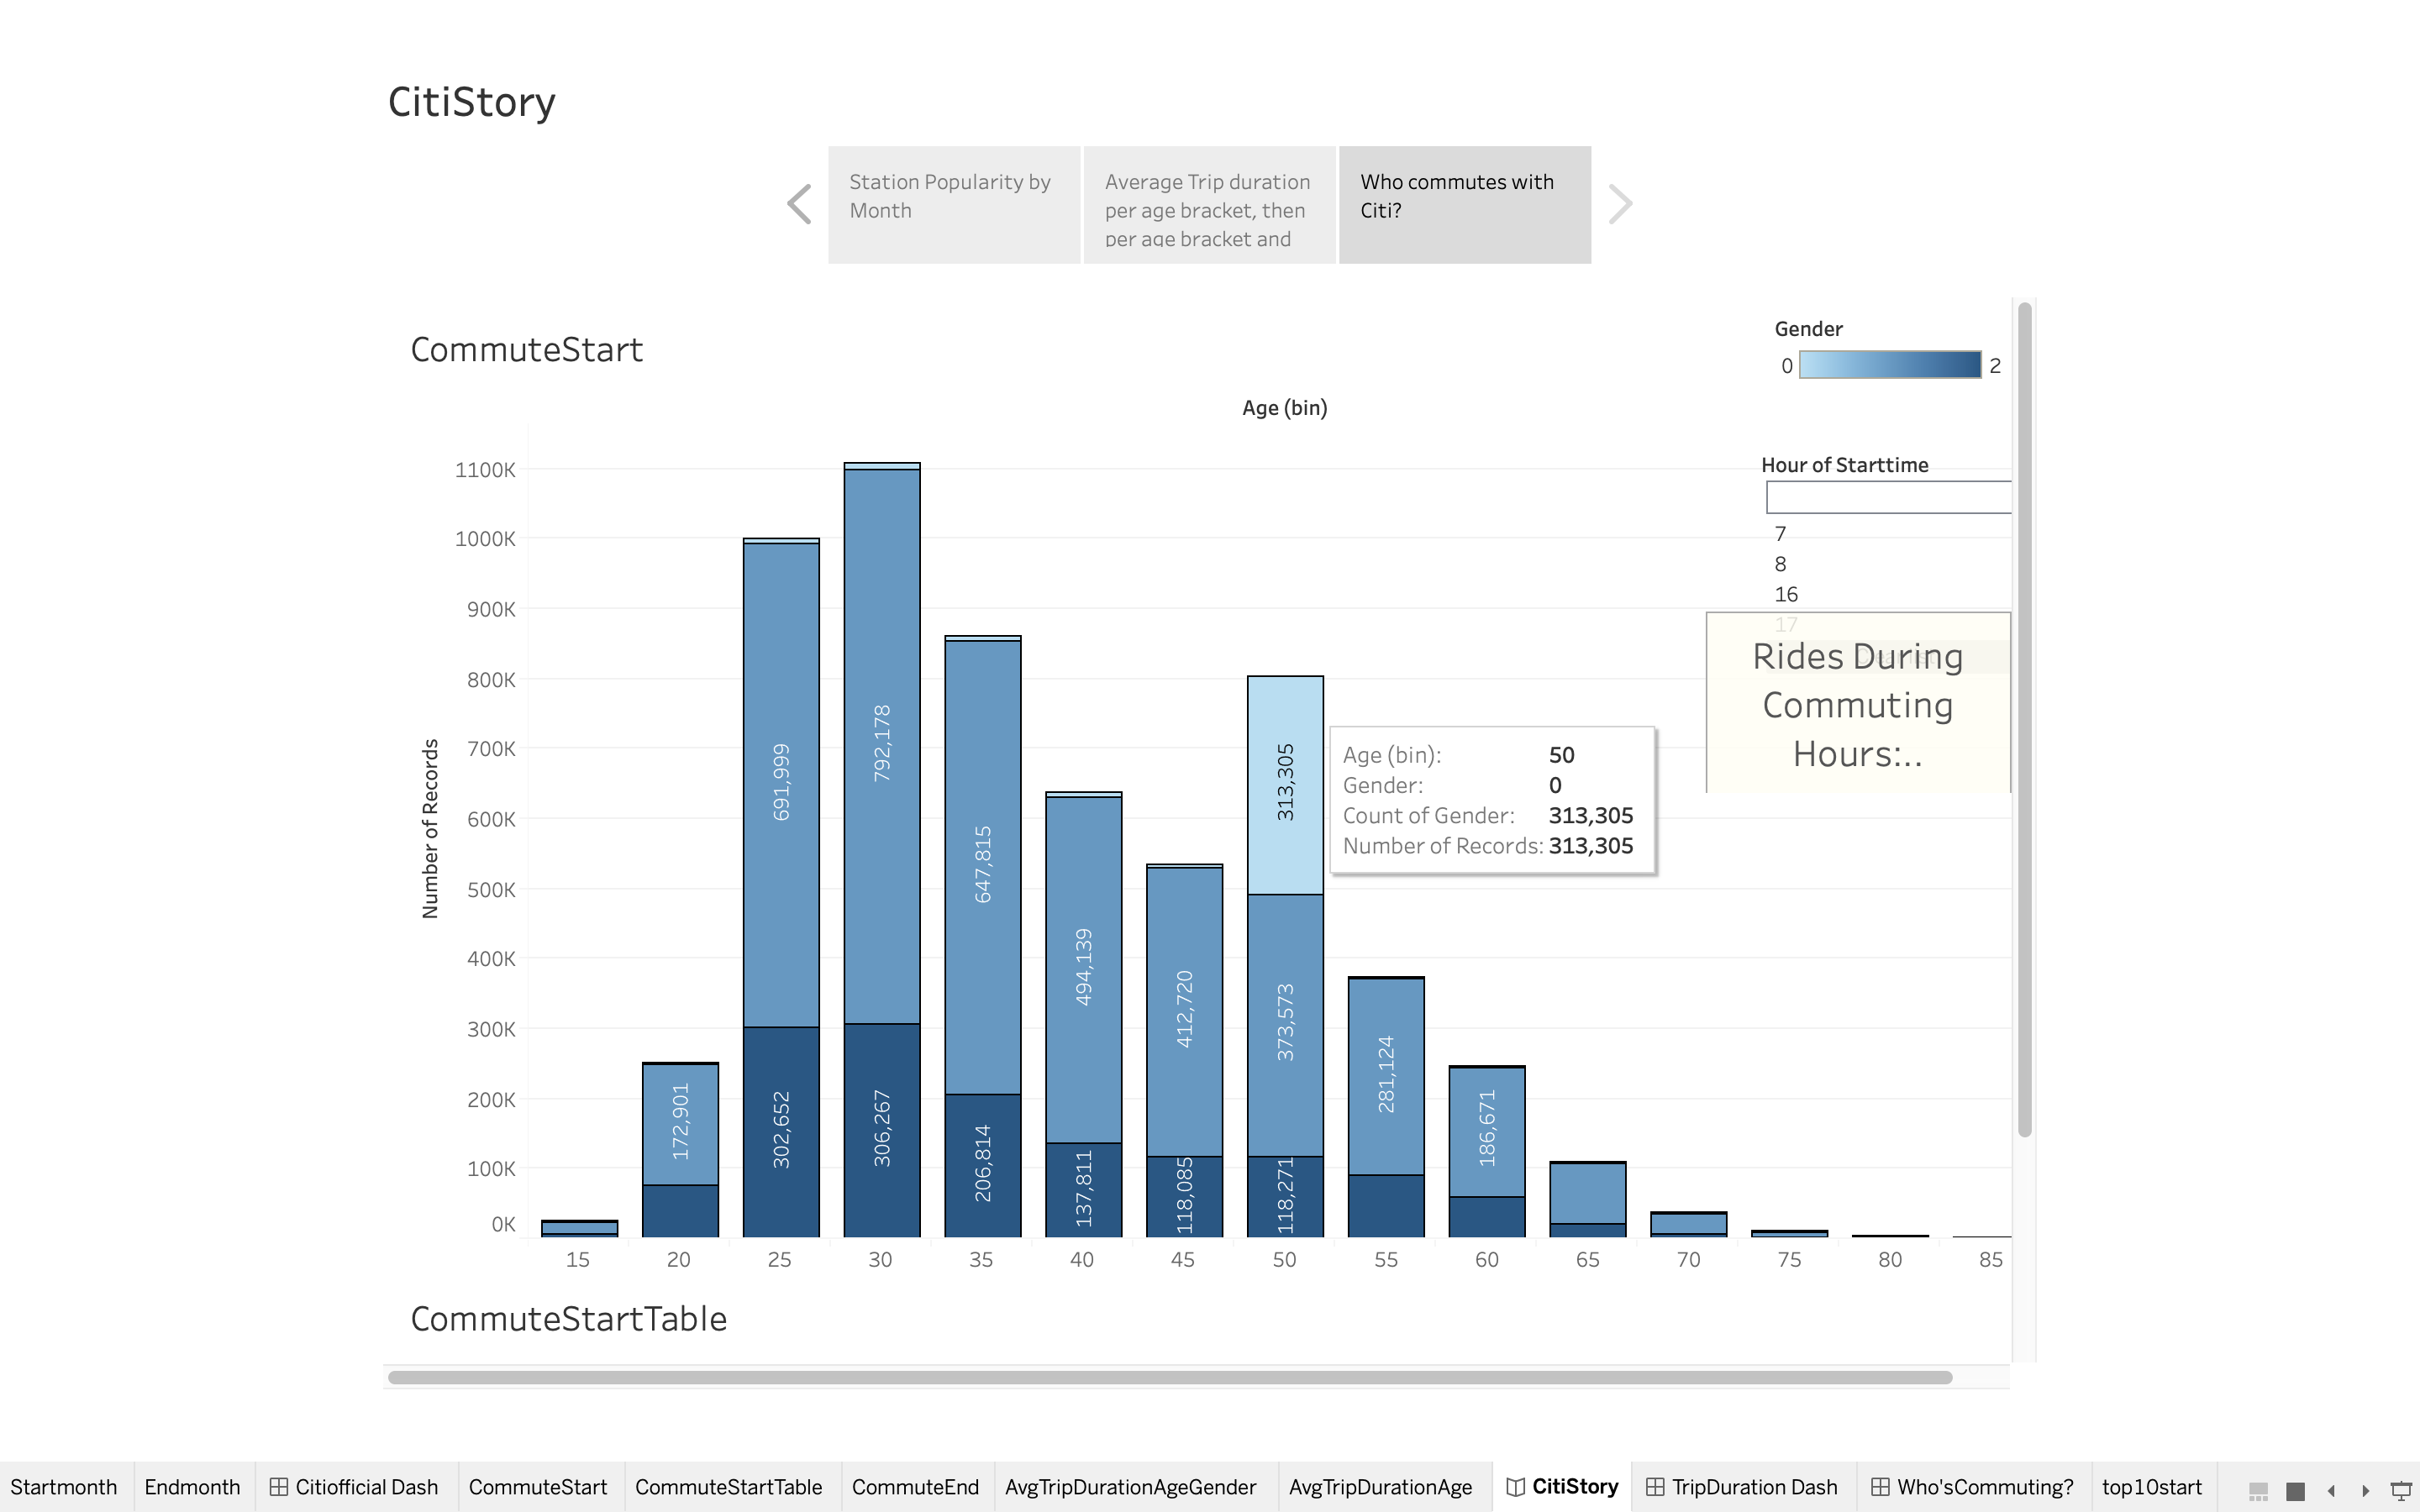

The dashboard page shown, as its layout file describes it:
{"tool":"tableau","page":{"name":"Who'sCommuting?","canvas":[1000,800],"ordinal":2},"visuals":[{"type":"worksheet","title":"CommuteStart","mark":"Automatic","rows":["Number of Records"],"cols":["Age (bin)"],"box":[8,8,984,577]},{"type":"legend","title":"CommuteStart","param":"[federated.1m6aai70d4kahj16i3lhl10j2uu9].[none:gender:qk]","box":[828,10,140,76]},{"type":"filter","title":"CommuteStart","param":"[federated.1m6aai70d4kahj16i3lhl10j2uu9].[hr:starttime:ok]","box":[820,91,160,136]},{"type":"worksheet","title":"CommuteStartTable","mark":"Square","rows":["Gender (bin)"],"cols":["Age (bin)"],"box":[8,585,984,207]}]}

Visuals, with their boxes on the page's 1000x800 design canvas (x1, y1, x2, y2). These are canvas units, not pixel positions in the 2420x1512 screenshot, which may show the page scaled, cropped or inside an application window:
"CommuteStart" worksheet: 8, 8, 992, 585
"CommuteStart" legend: 828, 10, 968, 86
"CommuteStart" filter: 820, 91, 980, 227
"CommuteStartTable" worksheet (Square marks): 8, 585, 992, 792
